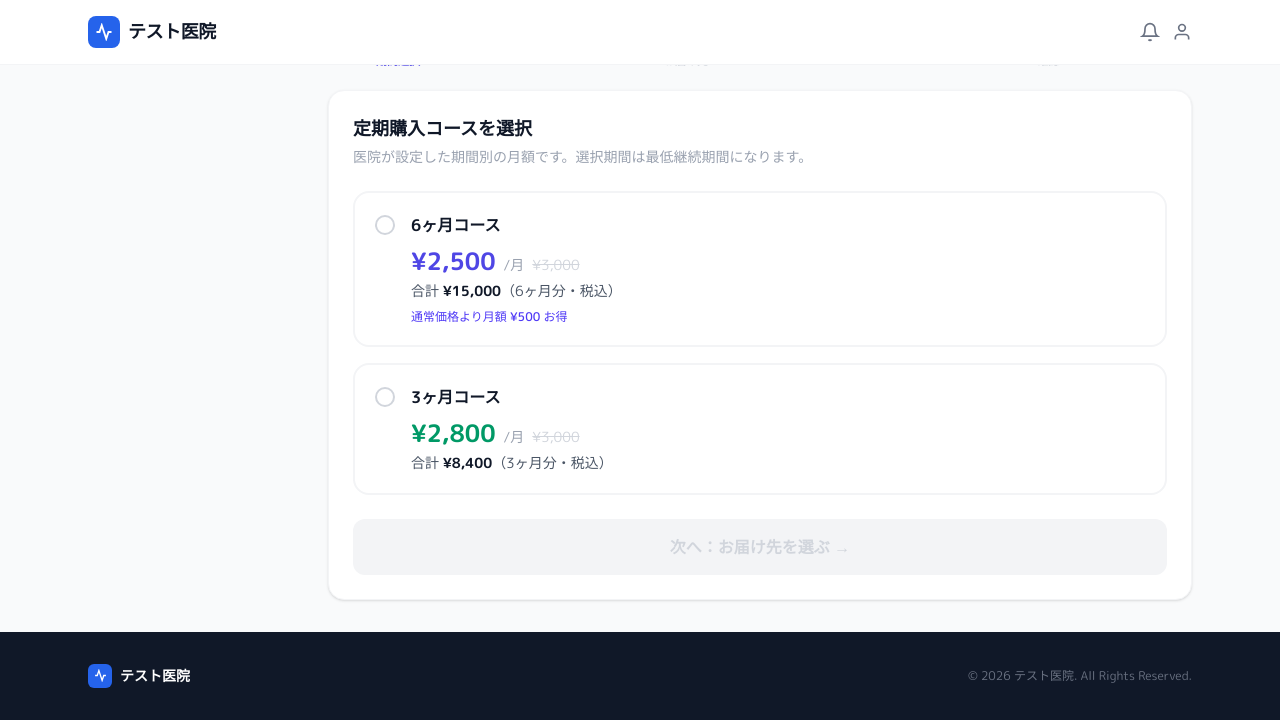
Test: SubscriptionOrderPage › 自宅受け取りを選択して配送先を確認できる
(page scrolled)
Click the button "3ヶ月コース ¥2,800 /月 ¥3,000 合計 ¥8,400（3ヶ月分・税込）": (456, 396) [353,362,1167,494]
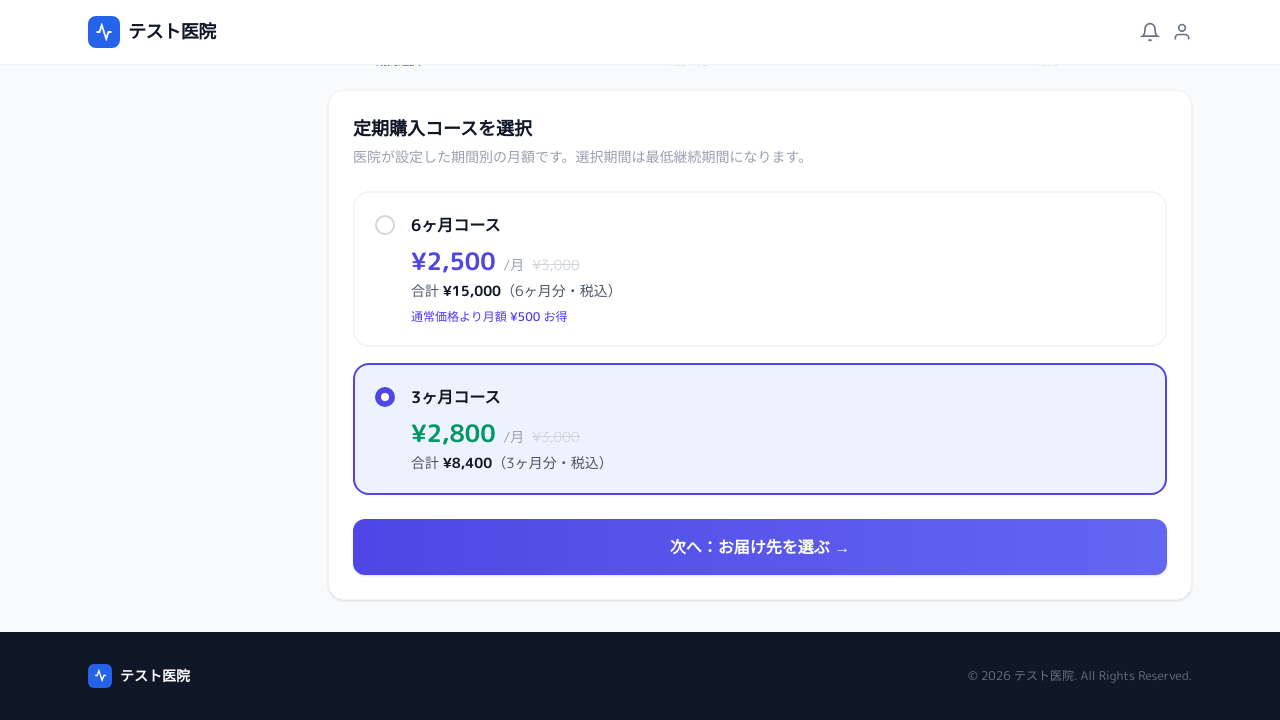
Click the button "次へ：お届け先を選ぶ →": (760, 546) [353,518,1167,574]
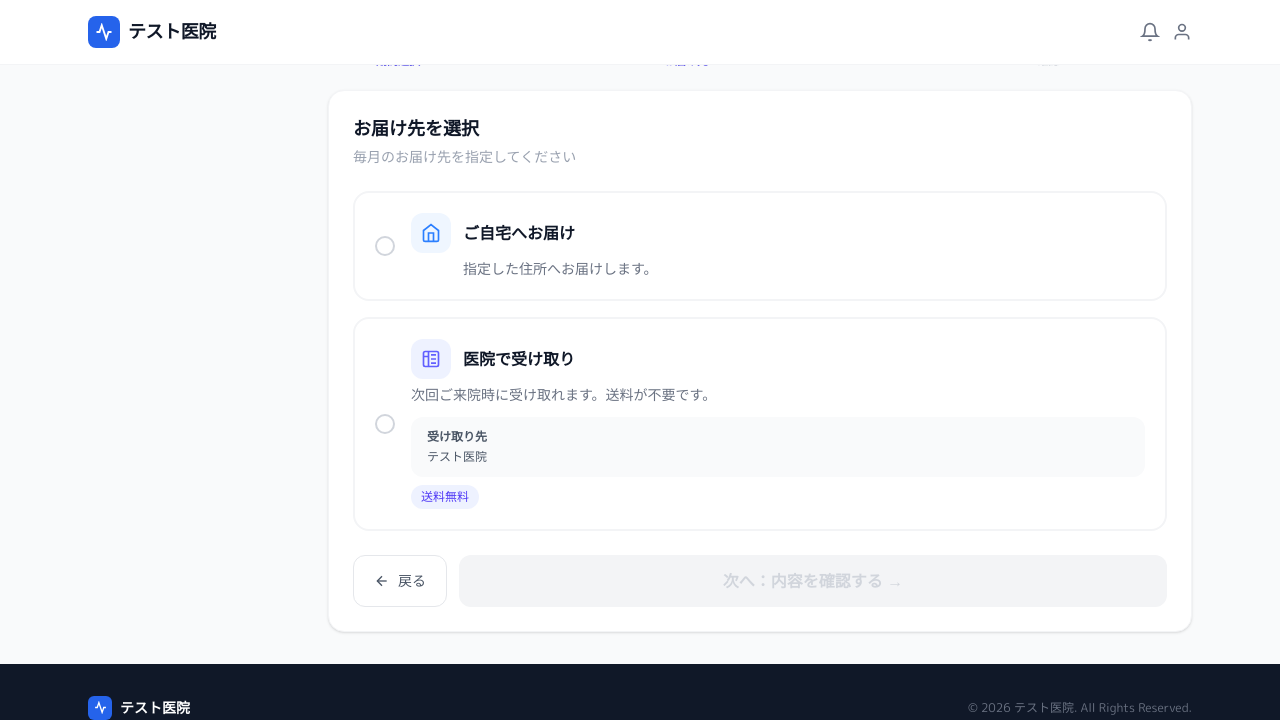
Click the button "ご自宅へお届け 指定した住所へお届けします。": (431, 232) [353,190,1167,300]
(page scrolled)
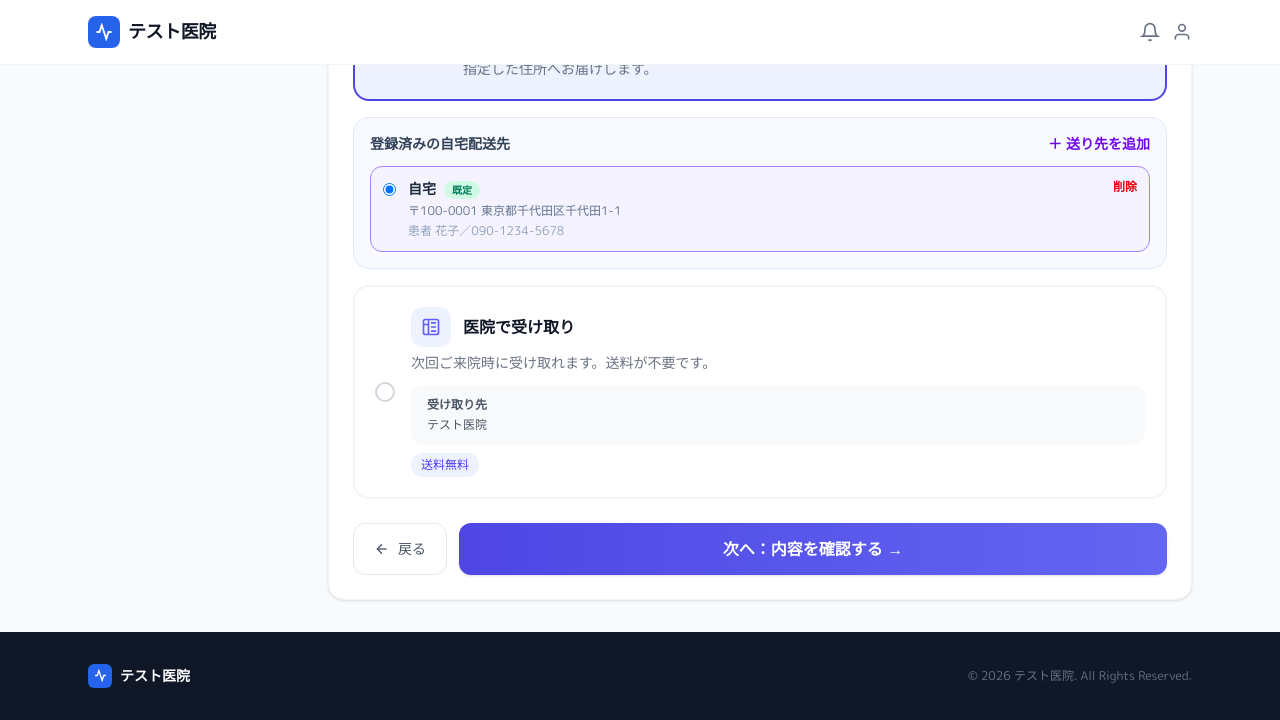
Check: the text "自宅" is shown, box [408,178,436,198]
Click the button "次へ：内容を確認する →": (813, 548) [459,522,1167,574]
(page scrolled)
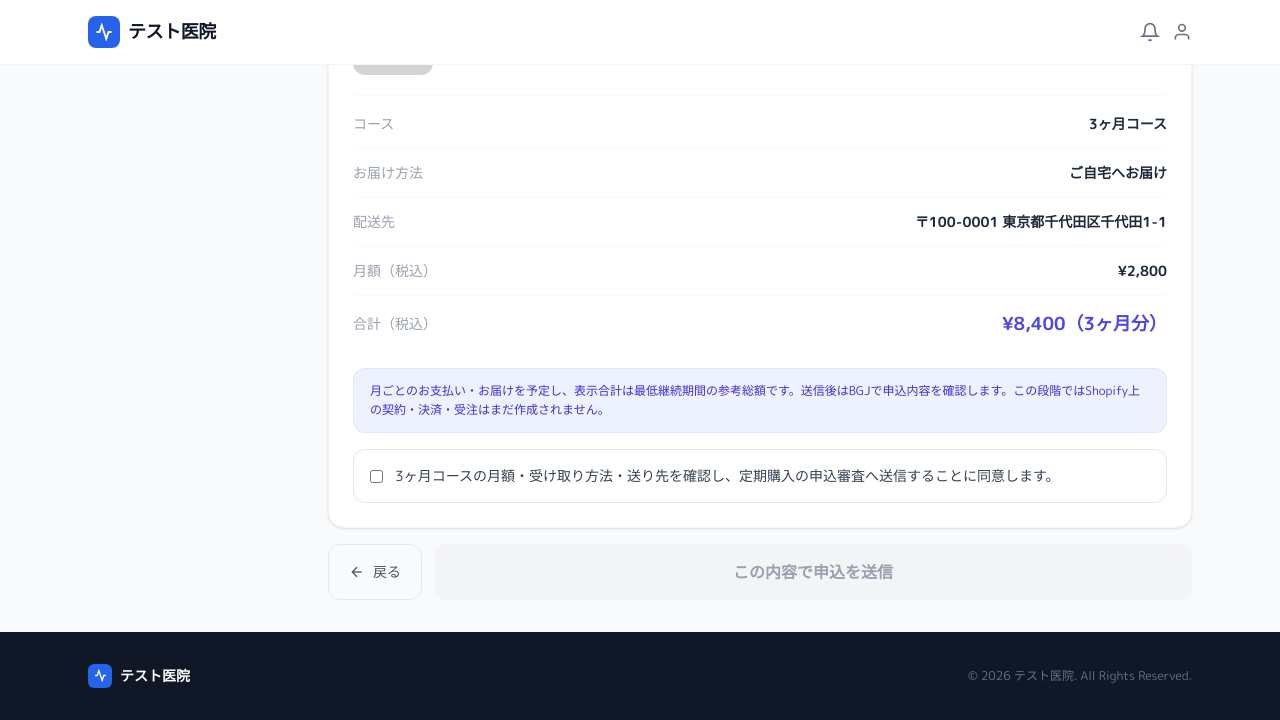
Check: the text "ご自宅へお届け" is shown, box [1069,162,1167,182]
Check: the text "〒100-0001 東京都千代田区千代田1-1" is shown, box [915,212,1167,232]
Check: the text "¥8,400（3ヶ月分）" is shown, box [1002,310,1167,338]
